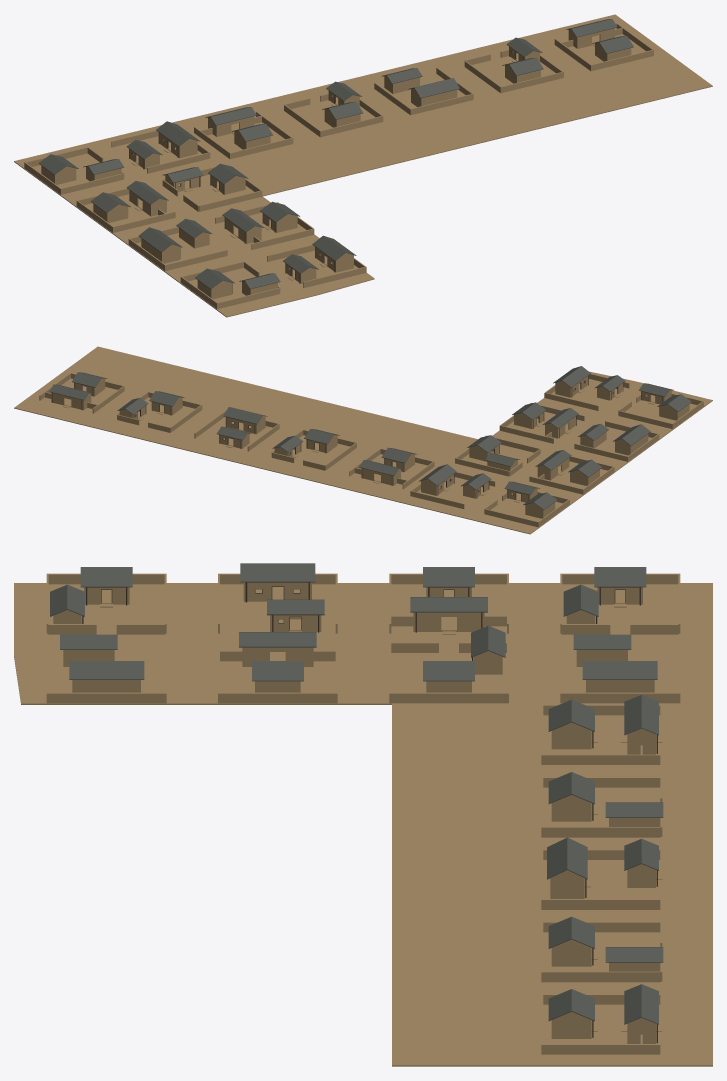
Rendered from life-block-LOD2.glb.
The picture shows the model from 3 angles, top to bottom: view 1: azimuth 30°, elevation 25°; view 2: azimuth 150°, elevation 25°; view 3: azimuth 270°, elevation 25°; orthographic projection. The views are drawn at different scales.
Parts seen in each view (by area): view 1: C_life_block_ground_removable, LIFE-N5__life_C__LY_P01_earth, LIFE-N1__life_C__LY_P01_earth, LIFE-W3__life_C__LY_P01_earth, LIFE-W4__life_A__LY_P01_earth, LIFE-W1__life_A__LY_P01_earth, LIFE-N3__life_B__LY_P01_earth, LIFE-E1__life_B__LY_P01_earth, LIFE-E4__life_B__LY_P01_earth, LIFE-W2__life_B__LY_P01_earth, LIFE-E2__life_C__LY_P01_earth, LIFE-N2__life_A__LY_P01_earth (+15 smaller); view 2: C_life_block_ground_removable, LIFE-W3__life_C__LY_P01_earth, LIFE-W2__life_B__LY_P01_earth, LIFE-W1__life_A__LY_P01_earth, LIFE-W4__life_A__LY_P01_earth, LIFE-N5__life_C__LY_P01_earth, LIFE-N1__life_C__LY_P01_earth, LIFE-E2__life_C__LY_P01_earth, LIFE-E3__life_A__LY_P01_earth, LIFE-N3__life_B__LY_P01_earth, LIFE-E1__life_B__LY_P01_earth, LIFE-E4__life_B__LY_P01_earth (+15 smaller); view 3: C_life_block_ground_removable, LIFE-N4__life_A__LY_P01_earth, LIFE-N2__life_A__LY_P01_earth, LIFE-E2__life_C__LY_P01_earth, LIFE-N1__life_C__LY_P01_earth, LIFE-N5__life_C__LY_P01_earth, LIFE-N3__life_B__LY_P01_earth, LIFE-E3__life_A__LY_P01_earth, LIFE-W3__life_C__LY_P01_earth, LIFE-W1__life_A__LY_P01_earth, LIFE-W4__life_A__LY_P01_earth, LIFE-E1__life_B__LY_P01_earth (+15 smaller).
Boxes of the visible parts, x1,y1,x2,y2 form: C_life_block_ground_removable: (14,14,712,317); LIFE-N5__life_C__LY_P01_earth: (554,23,653,71); LIFE-N1__life_C__LY_P01_earth: (194,111,293,159); LIFE-W3__life_C__LY_P01_earth: (76,188,175,232); LIFE-W4__life_A__LY_P01_earth: (24,147,124,194); LIFE-W1__life_A__LY_P01_earth: (180,261,280,309); LIFE-N3__life_B__LY_P01_earth: (374,67,473,115); LIFE-E1__life_B__LY_P01_earth: (267,244,366,287); LIFE-E4__life_B__LY_P01_earth: (111,130,210,173); LIFE-W2__life_B__LY_P01_earth: (128,226,227,270); LIFE-E2__life_C__LY_P01_earth: (215,202,314,249); LIFE-N2__life_A__LY_P01_earth: (284,91,383,137); C_life_block_ground_removable: (14,346,712,534); LIFE-W3__life_C__LY_P01_earth: (529,456,614,494); LIFE-W2__life_B__LY_P01_earth: (574,421,659,461); LIFE-W1__life_A__LY_P01_earth: (618,390,703,429); LIFE-W4__life_A__LY_P01_earth: (484,488,569,527); LIFE-N5__life_C__LY_P01_earth: (39,373,124,413); LIFE-N1__life_C__LY_P01_earth: (349,448,434,489); LIFE-E2__life_C__LY_P01_earth: (499,403,584,443); LIFE-E3__life_A__LY_P01_earth: (455,435,540,476); LIFE-N3__life_B__LY_P01_earth: (194,410,279,451); LIFE-E1__life_B__LY_P01_earth: (544,374,629,410); LIFE-E4__life_B__LY_P01_earth: (410,472,495,508); C_life_block_ground_removable: (14,583,712,1066); LIFE-N4__life_A__LY_P01_earth: (541,922,662,982); LIFE-N2__life_A__LY_P01_earth: (541,777,662,837); LIFE-E2__life_C__LY_P01_earth: (218,643,337,703); LIFE-N1__life_C__LY_P01_earth: (541,704,662,764); LIFE-N5__life_C__LY_P01_earth: (541,994,662,1054); LIFE-N3__life_B__LY_P01_earth: (541,849,662,909); LIFE-E3__life_A__LY_P01_earth: (389,642,508,703); LIFE-W3__life_C__LY_P01_earth: (389,573,508,634); LIFE-W1__life_A__LY_P01_earth: (46,573,166,634); LIFE-W4__life_A__LY_P01_earth: (560,573,680,634); LIFE-E1__life_B__LY_P01_earth: (46,643,166,703).
Size of the model in its own units: 160 by 5.03 by 98.
